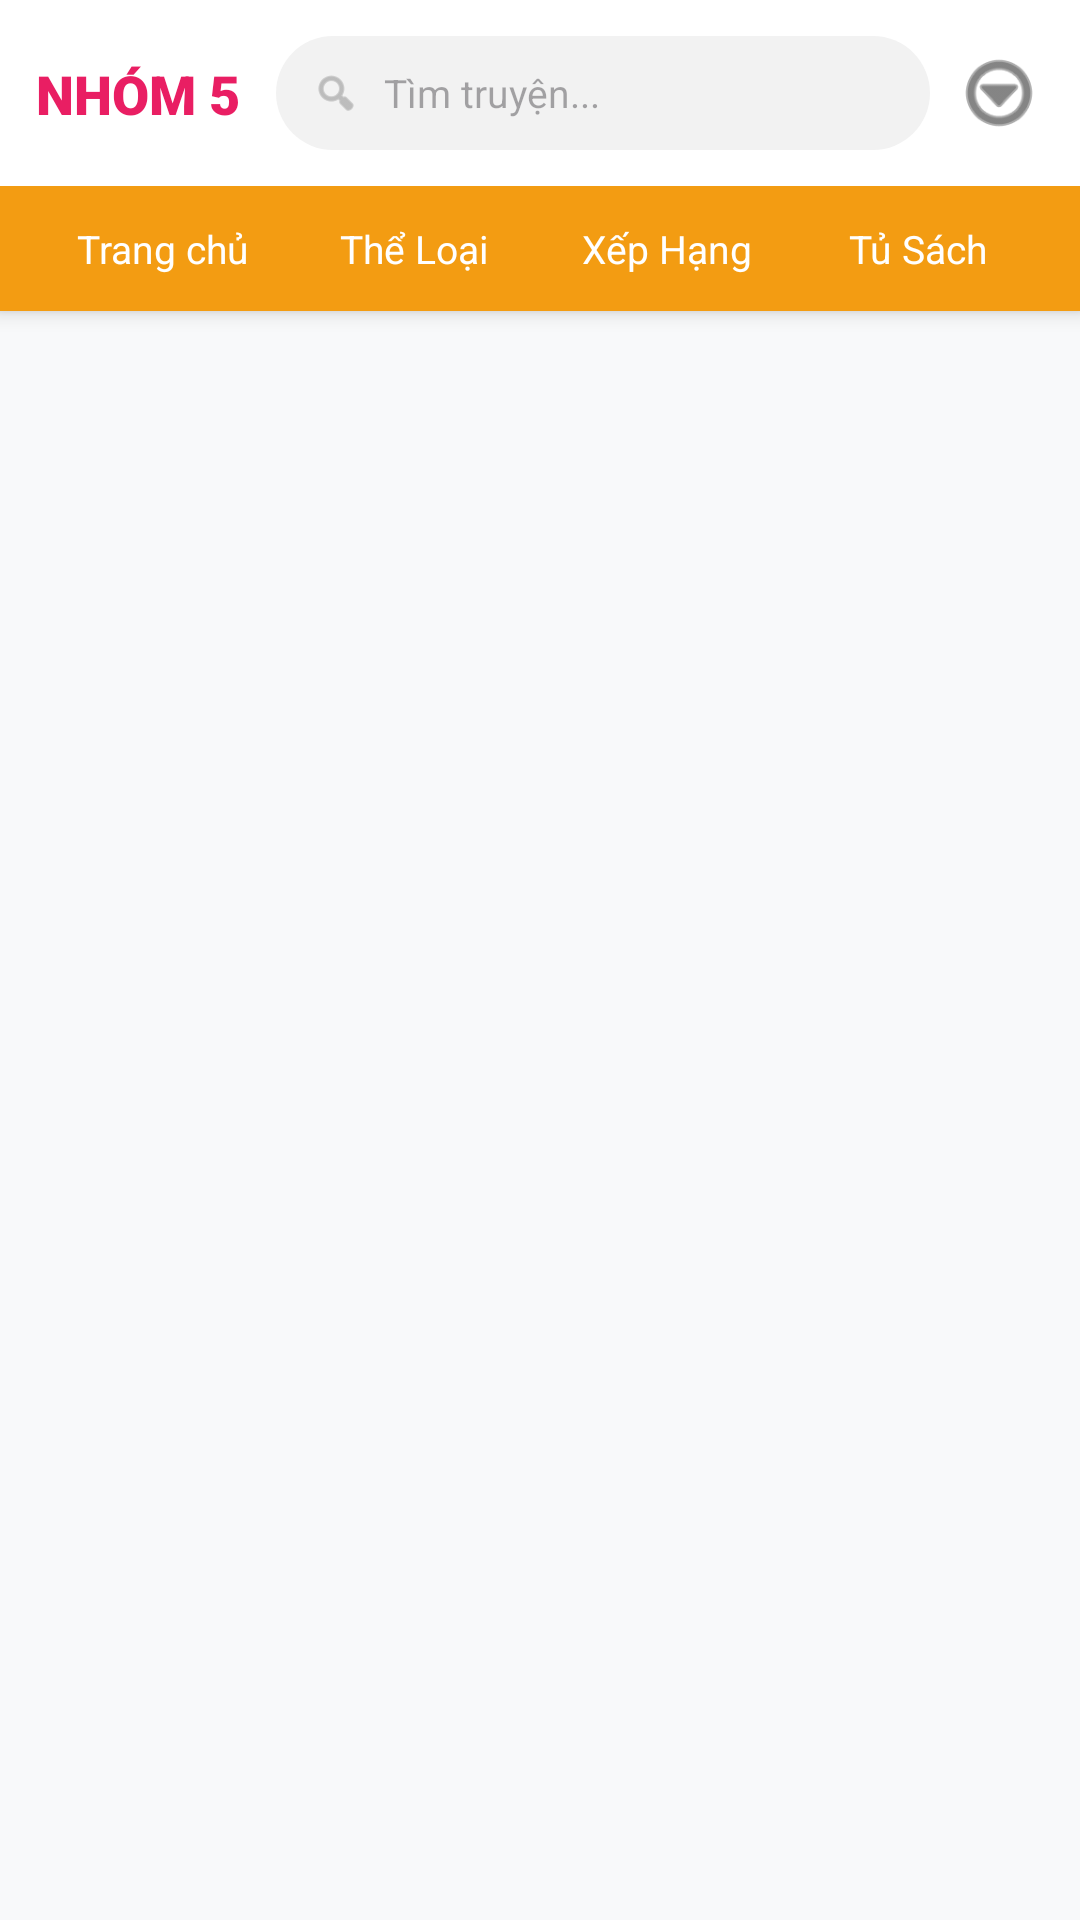

Where to tap for icons on this 1080 x 1920 app screen, as (x=x, y=y):
more: (x=999, y=93)
search: (x=336, y=93)
